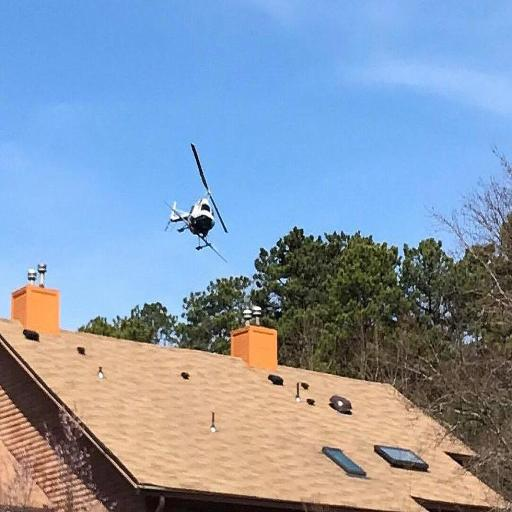helicopter: (166, 141, 231, 270)
